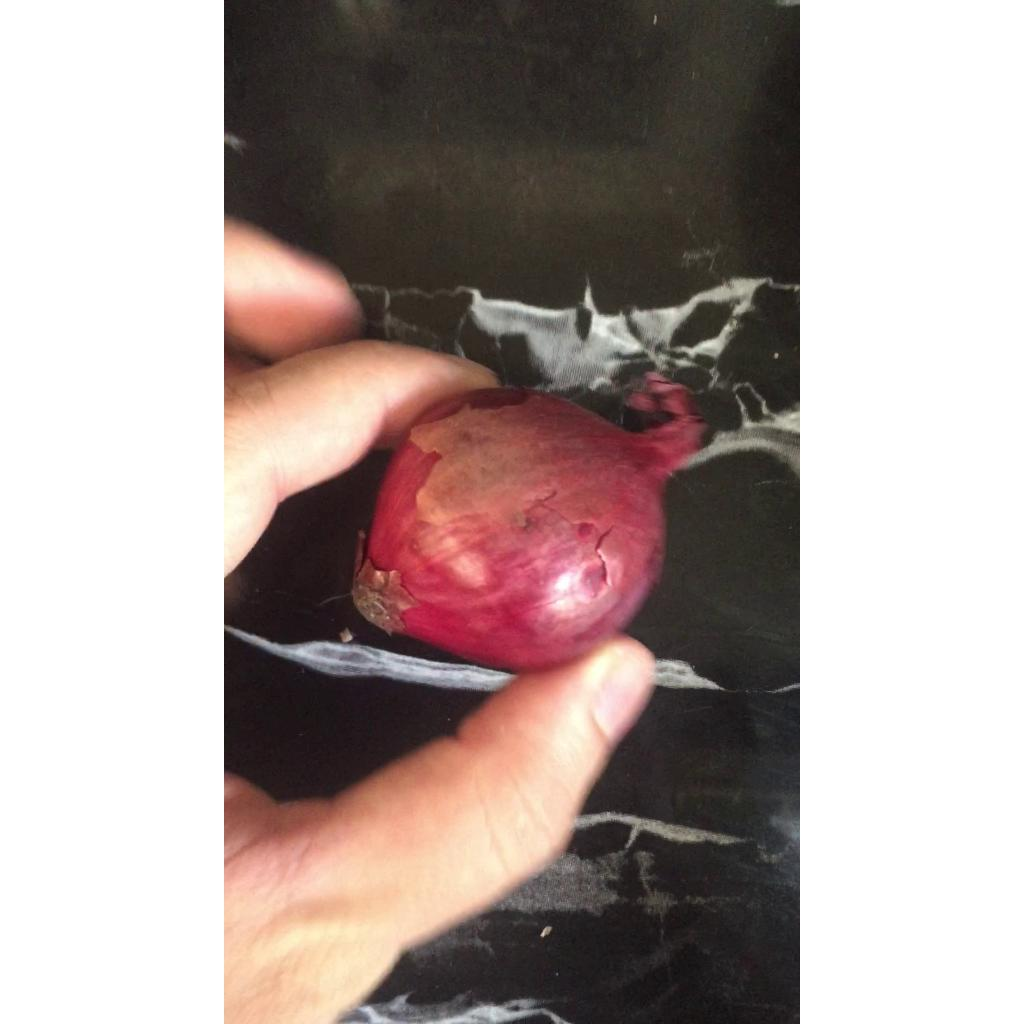Onion: (351, 373, 706, 671)
